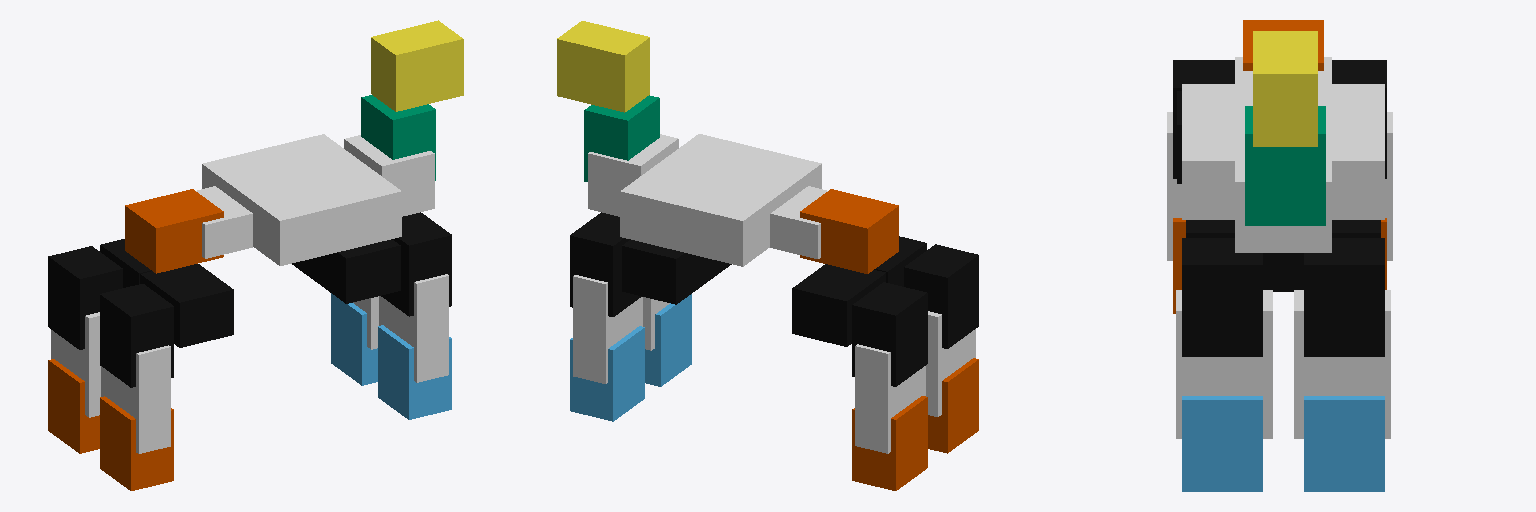
robot.urdf — dog_picker:
?<?xml version="1.0" ?>
<!-- =================================================================================== -->
<!-- |    This document was autogenerated by xacro from [local-path]/Documents/src/ros/dog_picker/src/dog_picker_description/urdf/dog_picker_description.xacro | -->
<!-- |    EDITING THIS FILE BY HAND IS NOT RECOMMENDED                                 | -->
<!-- =================================================================================== -->
<robot name="dog_picker" xmlns:xacro="http://www.ros.org/wiki/xacro">
  <!-- negative green is the joint axis in y... -->
  <!-- z is blue and x is red... -->
  <link name="base_link">
    <visual>
      <origin rpy="0 0 0" xyz="0 0 0.150"/>
      <geometry>
        <box size="0.09 0.1 0.032"/>
      </geometry>
      <material name="DimWhite">
        <color rgba="0.9 0.9 0.9 1.0"/>
      </material>
    </visual>
  </link>
  <joint name="robotis_part_6" type="fixed">
    <origin rpy="0 0 0" xyz="0.045 0 0.150"/>
    <parent link="base_link"/>
    <child link="neck_link"/>
  </joint>
  <link name="neck_link">
    <visual>
      <origin rpy="0 0 0" xyz="0.0195 0 0.0035"/>
      <geometry>
        <box size="0.039 0.048  0.039 "/>
      </geometry>
      <material name="DimWhite">
        <color rgba="0.9 0.9 0.9 1.0"/>
      </material>
    </visual>
  </link>
  <joint name="dynamixel_AX12_6_joint" type="revolute">
    <!--origin of whole dynamixel is at the center of the round part visible on the servo which is the joint -->
    <origin rpy="3.14159 0 0" xyz="0.027 0.021 0.0125"/>
    <!-- negative green is the joint axis... -->
    <axis xyz="0 -1 0"/>
    <limit effort="1000" lower="-2.61799166667" upper="2.61799166667" velocity="0.5"/>
    <parent link="neck_link"/>
    <child link="dynamixel_AX12_6_link"/>
  </joint>
  <link name="dynamixel_AX12_6_link">
    <!---rviz -->
    <visual>
      <!--link origin is a delta from the joint to the center of the servo box-->
      <origin rpy="0 0 0" xyz="0 0.02 -0.0135"/>
      <geometry>
        <!-- <mesh filename="package://pi_tb_description/meshes/ax12_box.${MESH_EXT}" scale="${M_SCALE} ${M_SCALE} ${M_SCALE}"/> -->
        <box size="0.032 0.04 0.05"/>
      </geometry>
      <material name="black"/>
    </visual>
    <!---gazebo section needs work http://wiki.ros.org/MeshLab http://en.wikipedia.org/wiki/List_of_moment_of_inertia_tensors   
      <inertial>
        <mass value="0.00001" />
        <inertia ixx="1.0" ixy="0.0" ixz="0.0"
          iyy="1.0" iyz="0.0"
          izz="1.0" />
      </inertial>
      <collision>
        <origin xyz="0.0 0.0 -0.0045" rpy="0 0 0" />
        <geometry>
          <box size="0.025 0.038 0.009"/>
        </geometry>
      </collision>
-->
  </link>
  <joint name="dynamixel_AX12_17_joint" type="revolute">
    <!--origin of whole dynamixel is at the center of the round part visible on the servo which is the joint -->
    <origin rpy="-1.570795 0 1.570795" xyz="0 0.02 -0.0415"/>
    <!-- negative green is the joint axis... -->
    <axis xyz="0 -1 0"/>
    <limit effort="1000" lower="-2.61799166667" upper="2.61799166667" velocity="0.5"/>
    <parent link="dynamixel_AX12_6_link"/>
    <child link="dynamixel_AX12_17_link"/>
  </joint>
  <link name="dynamixel_AX12_17_link">
    <!---rviz -->
    <visual>
      <!--link origin is a delta from the joint to the center of the servo box-->
      <origin rpy="0 0 0" xyz="0 0.02 -0.0135"/>
      <geometry>
        <!-- <mesh filename="package://pi_tb_description/meshes/ax12_box.${MESH_EXT}" scale="${M_SCALE} ${M_SCALE} ${M_SCALE}"/> -->
        <box size="0.032 0.04 0.05"/>
      </geometry>
      <material name="black"/>
    </visual>
    <!---gazebo section needs work http://wiki.ros.org/MeshLab http://en.wikipedia.org/wiki/List_of_moment_of_inertia_tensors   
      <inertial>
        <mass value="0.00001" />
        <inertia ixx="1.0" ixy="0.0" ixz="0.0"
          iyy="1.0" iyz="0.0"
          izz="1.0" />
      </inertial>
      <collision>
        <origin xyz="0.0 0.0 -0.0045" rpy="0 0 0" />
        <geometry>
          <box size="0.025 0.038 0.009"/>
        </geometry>
      </collision>
-->
  </link>
  <joint name="robotis_part_1" type="fixed">
    <origin rpy="0 0 0" xyz="-0.045 0 0.150"/>
    <parent link="base_link"/>
    <child link="butt_link"/>
  </joint>
  <link name="butt_link">
    <visual>
      <origin rpy="0 0 0" xyz="-0.0225 0 0"/>
      <geometry>
        <box size="0.035 0.048  0.024 "/>
      </geometry>
      <material name="DimWhite">
        <color rgba="0.9 0.9 0.9 1.0"/>
      </material>
    </visual>
  </link>
  <joint name="dynamixel_AX12_1_joint" type="revolute">
    <!--origin of whole dynamixel is at the center of the round part visible on the servo which is the joint -->
    <origin rpy="0 1.570795 0" xyz="-0.0355 -0.02 0"/>
    <!-- negative green is the joint axis... -->
    <axis xyz="0 -1 0"/>
    <limit effort="1000" lower="-2.61799166667" upper="2.61799166667" velocity="0.5"/>
    <parent link="butt_link"/>
    <child link="dynamixel_AX12_1_link"/>
  </joint>
  <link name="dynamixel_AX12_1_link">
    <!---rviz -->
    <visual>
      <!--link origin is a delta from the joint to the center of the servo box-->
      <origin rpy="0 0 0" xyz="0 0.02 -0.0135"/>
      <geometry>
        <!-- <mesh filename="package://pi_tb_description/meshes/ax12_box.${MESH_EXT}" scale="${M_SCALE} ${M_SCALE} ${M_SCALE}"/> -->
        <box size="0.032 0.04 0.05"/>
      </geometry>
      <material name="black"/>
    </visual>
    <!---gazebo section needs work http://wiki.ros.org/MeshLab http://en.wikipedia.org/wiki/List_of_moment_of_inertia_tensors   
      <inertial>
        <mass value="0.00001" />
        <inertia ixx="1.0" ixy="0.0" ixz="0.0"
          iyy="1.0" iyz="0.0"
          izz="1.0" />
      </inertial>
      <collision>
        <origin xyz="0.0 0.0 -0.0045" rpy="0 0 0" />
        <geometry>
          <box size="0.025 0.038 0.009"/>
        </geometry>
      </collision>
-->
  </link>
  <joint name="robotis_part_4" type="fixed">
    <origin rpy="1.570795 -1.570795 0.0" xyz="0.045 -0.0365 0.111"/>
    <parent link="base_link"/>
    <child link="dynamixel_AX12_4_link"/>
  </joint>
  <link name="dynamixel_AX12_4_link">
    <!---rviz -->
    <visual>
      <!--link origin is a delta from the joint to the center of the servo box-->
      <origin rpy="0 0 0" xyz="0 0.02 -0.0135"/>
      <geometry>
        <!-- <mesh filename="package://pi_tb_description/meshes/ax12_box.${MESH_EXT}" scale="${M_SCALE} ${M_SCALE} ${M_SCALE}"/> -->
        <box size="0.032 0.04 0.05"/>
      </geometry>
      <material name="Gray">
        <color rgba="0.1 0.1 0.1 1.0"/>
      </material>
    </visual>
  </link>
  <joint name="dynamixel_AX12_4_joint" type="revolute">
    <!--origin of whole dynamixel is at the center of the round part visible on the servo which is the joint -->
    <origin rpy="-1.570795 0 1.570795" xyz="-0.023 -0.021 0.0135"/>
    <axis xyz="0 -1 0"/>
    <limit effort="1000" lower="-2.61799166667" upper="2.61799166667" velocity="0.5"/>
    <parent link="dynamixel_AX12_4_link"/>
    <child link="dynamixel_AX12_16_link"/>
  </joint>
  <link name="dynamixel_AX12_16_link">
    <!---rviz -->
    <visual>
      <!--link origin is a delta from the joint to the center of the servo box-->
      <origin rpy="0 0 0" xyz="0 0.02 -0.0135"/>
      <geometry>
        <!-- <mesh filename="package://pi_tb_description/meshes/ax12_box.${MESH_EXT}" scale="${M_SCALE} ${M_SCALE} ${M_SCALE}"/> -->
        <box size="0.032 0.04 0.05"/>
      </geometry>
      <material name="Gray">
        <color rgba="0.1 0.1 0.1 1.0"/>
      </material>
    </visual>
  </link>
  <joint name="dynamixel_AX12_16_joint" type="revolute">
    <!--origin of whole dynamixel is at the center of the round part visible on the servo which is the joint -->
    <origin rpy="0 0 0" xyz="0 0.021 0.023"/>
    <axis xyz="0 -1 0"/>
    <limit effort="1000" lower="-2.61799166667" upper="2.61799166667" velocity="0.5"/>
    <parent link="dynamixel_AX12_16_link"/>
    <child link="calf_link_8"/>
  </joint>
  <link name="calf_link_8">
    <visual>
      <origin rpy="0 0 0" xyz="0 0 0"/>
      <geometry>
        <box size="0.024  0.048 0.07"/>
      </geometry>
      <material name="DimWhite">
        <color rgba="0.9 0.9 0.9 1.0"/>
      </material>
    </visual>
  </link>
  <joint name="dynamixel_AX12_8_joint" type="revolute">
    <!--origin of whole dynamixel is at the center of the round part visible on the servo which is the joint -->
    <origin rpy="0 3.14159 0" xyz="0 -0.021 0.023"/>
    <!-- negative green is the joint axis... -->
    <axis xyz="0 -1 0"/>
    <limit effort="1000" lower="-2.61799166667" upper="2.61799166667" velocity="0.5"/>
    <parent link="calf_link_8"/>
    <child link="dynamixel_AX12_8_link"/>
  </joint>
  <link name="dynamixel_AX12_8_link">
    <!---rviz -->
    <visual>
      <!--link origin is a delta from the joint to the center of the servo box-->
      <origin rpy="0 0 0" xyz="0 0.02 -0.0135"/>
      <geometry>
        <!-- <mesh filename="package://pi_tb_description/meshes/ax12_box.${MESH_EXT}" scale="${M_SCALE} ${M_SCALE} ${M_SCALE}"/> -->
        <box size="0.032 0.04 0.05"/>
      </geometry>
      <material name="black"/>
    </visual>
    <!---gazebo section needs work http://wiki.ros.org/MeshLab http://en.wikipedia.org/wiki/List_of_moment_of_inertia_tensors   
      <inertial>
        <mass value="0.00001" />
        <inertia ixx="1.0" ixy="0.0" ixz="0.0"
          iyy="1.0" iyz="0.0"
          izz="1.0" />
      </inertial>
      <collision>
        <origin xyz="0.0 0.0 -0.0045" rpy="0 0 0" />
        <geometry>
          <box size="0.025 0.038 0.009"/>
        </geometry>
      </collision>
-->
  </link>
  <joint name="robotis_part_11" type="fixed">
    <origin rpy="1.570795 0.0 3.14159" xyz="0.039 0.0575 -0.04"/>
    <parent link="dynamixel_AX12_1_link"/>
    <child link="dynamixel_AX12_11_link"/>
  </joint>
  <link name="dynamixel_AX12_11_link">
    <!---rviz -->
    <visual>
      <!--link origin is a delta from the joint to the center of the servo box-->
      <origin rpy="0 0 0" xyz="0 0.02 -0.0135"/>
      <geometry>
        <!-- <mesh filename="package://pi_tb_description/meshes/ax12_box.${MESH_EXT}" scale="${M_SCALE} ${M_SCALE} ${M_SCALE}"/> -->
        <box size="0.032 0.04 0.05"/>
      </geometry>
      <material name="Gray">
        <color rgba="0.1 0.1 0.1 1.0"/>
      </material>
    </visual>
  </link>
  <joint name="dynamixel_AX12_11_joint" type="revolute">
    <!--origin of whole dynamixel is at the center of the round part visible on the servo which is the joint -->
    <origin rpy="-1.570795 0 1.570795" xyz="-0.023 -0.021 0.0135"/>
    <axis xyz="0 -1 0"/>
    <limit effort="1000" lower="-2.61799166667" upper="2.61799166667" velocity="0.5"/>
    <parent link="dynamixel_AX12_11_link"/>
    <child link="dynamixel_AX12_13_link"/>
  </joint>
  <link name="dynamixel_AX12_13_link">
    <!---rviz -->
    <visual>
      <!--link origin is a delta from the joint to the center of the servo box-->
      <origin rpy="0 0 0" xyz="0 0.02 -0.0135"/>
      <geometry>
        <!-- <mesh filename="package://pi_tb_description/meshes/ax12_box.${MESH_EXT}" scale="${M_SCALE} ${M_SCALE} ${M_SCALE}"/> -->
        <box size="0.032 0.04 0.05"/>
      </geometry>
      <material name="Gray">
        <color rgba="0.1 0.1 0.1 1.0"/>
      </material>
    </visual>
  </link>
  <joint name="dynamixel_AX12_13_joint" type="revolute">
    <!--origin of whole dynamixel is at the center of the round part visible on the servo which is the joint -->
    <origin rpy="0 0 0" xyz="0 0.021 0.023"/>
    <axis xyz="0 -1 0"/>
    <limit effort="1000" lower="-2.61799166667" upper="2.61799166667" velocity="0.5"/>
    <parent link="dynamixel_AX12_13_link"/>
    <child link="calf_link_15"/>
  </joint>
  <link name="calf_link_15">
    <visual>
      <origin rpy="0 0 0" xyz="0 0 0"/>
      <geometry>
        <box size="0.024  0.048 0.07"/>
      </geometry>
      <material name="DimWhite">
        <color rgba="0.9 0.9 0.9 1.0"/>
      </material>
    </visual>
  </link>
  <joint name="dynamixel_AX12_15_joint" type="revolute">
    <!--origin of whole dynamixel is at the center of the round part visible on the servo which is the joint -->
    <origin rpy="0 3.14159 0" xyz="0 -0.021 0.023"/>
    <!-- negative green is the joint axis... -->
    <axis xyz="0 -1 0"/>
    <limit effort="1000" lower="-2.61799166667" upper="2.61799166667" velocity="0.5"/>
    <parent link="calf_link_15"/>
    <child link="dynamixel_AX12_15_link"/>
  </joint>
  <link name="dynamixel_AX12_15_link">
    <!---rviz -->
    <visual>
      <!--link origin is a delta from the joint to the center of the servo box-->
      <origin rpy="0 0 0" xyz="0 0.02 -0.0135"/>
      <geometry>
        <!-- <mesh filename="package://pi_tb_description/meshes/ax12_box.${MESH_EXT}" scale="${M_SCALE} ${M_SCALE} ${M_SCALE}"/> -->
        <box size="0.032 0.04 0.05"/>
      </geometry>
      <material name="black"/>
    </visual>
    <!---gazebo section needs work http://wiki.ros.org/MeshLab http://en.wikipedia.org/wiki/List_of_moment_of_inertia_tensors   
      <inertial>
        <mass value="0.00001" />
        <inertia ixx="1.0" ixy="0.0" ixz="0.0"
          iyy="1.0" iyz="0.0"
          izz="1.0" />
      </inertial>
      <collision>
        <origin xyz="0.0 0.0 -0.0045" rpy="0 0 0" />
        <geometry>
          <box size="0.025 0.038 0.009"/>
        </geometry>
      </collision>
-->
  </link>
  <joint name="robotis_part_5" type="fixed">
    <origin rpy="-1.570795 1.570795 0.0" xyz="0.045 0.0365 0.111"/>
    <parent link="base_link"/>
    <child link="dynamixel_AX12_5_link"/>
  </joint>
  <link name="dynamixel_AX12_5_link">
    <!---rviz -->
    <visual>
      <!--link origin is a delta from the joint to the center of the servo box-->
      <origin rpy="0 0 0" xyz="0 0.02 -0.0135"/>
      <geometry>
        <!-- <mesh filename="package://pi_tb_description/meshes/ax12_box.${MESH_EXT}" scale="${M_SCALE} ${M_SCALE} ${M_SCALE}"/> -->
        <box size="0.032 0.04 0.05"/>
      </geometry>
      <material name="Gray">
        <color rgba="0.1 0.1 0.1 1.0"/>
      </material>
    </visual>
  </link>
  <joint name="dynamixel_AX12_5_joint" type="revolute">
    <!--origin of whole dynamixel is at the center of the round part visible on the servo which is the joint -->
    <origin rpy="-1.570795 0 -1.570795" xyz="0.023 -0.021 0.0135"/>
    <axis xyz="1 0 0"/>
    <limit effort="1000" lower="-2.61799166667" upper="2.61799166667" velocity="0.5"/>
    <parent link="dynamixel_AX12_5_link"/>
    <child link="dynamixel_AX12_7_link"/>
  </joint>
  <link name="dynamixel_AX12_7_link">
    <!---rviz -->
    <visual>
      <!--link origin is a delta from the joint to the center of the servo box-->
      <origin rpy="0 0 0" xyz="0 0.02 -0.0135"/>
      <geometry>
        <!-- <mesh filename="package://pi_tb_description/meshes/ax12_box.${MESH_EXT}" scale="${M_SCALE} ${M_SCALE} ${M_SCALE}"/> -->
        <box size="0.032 0.04 0.05"/>
      </geometry>
      <material name="Gray">
        <color rgba="0.1 0.1 0.1 1.0"/>
      </material>
    </visual>
  </link>
  <joint name="dynamixel_AX12_7_joint" type="revolute">
    <!--origin of whole dynamixel is at the center of the round part visible on the servo which is the joint -->
    <origin rpy="0 0 0" xyz="0 0.021 0.023"/>
    <axis xyz="0 -1 0"/>
    <limit effort="1000" lower="-2.61799166667" upper="2.61799166667" velocity="0.5"/>
    <parent link="dynamixel_AX12_7_link"/>
    <child link="calf_link_9"/>
  </joint>
  <link name="calf_link_9">
    <visual>
      <origin rpy="0 0 0" xyz="0 0 0"/>
      <geometry>
        <box size="0.024  0.048 0.07"/>
      </geometry>
      <material name="DimWhite">
        <color rgba="0.9 0.9 0.9 1.0"/>
      </material>
    </visual>
  </link>
  <joint name="dynamixel_AX12_9_joint" type="revolute">
    <!--origin of whole dynamixel is at the center of the round part visible on the servo which is the joint -->
    <origin rpy="0 3.14159 0" xyz="0 -0.021 0.023"/>
    <!-- negative green is the joint axis... -->
    <axis xyz="0 -1 0"/>
    <limit effort="1000" lower="-2.61799166667" upper="2.61799166667" velocity="0.5"/>
    <parent link="calf_link_9"/>
    <child link="dynamixel_AX12_9_link"/>
  </joint>
  <link name="dynamixel_AX12_9_link">
    <!---rviz -->
    <visual>
      <!--link origin is a delta from the joint to the center of the servo box-->
      <origin rpy="0 0 0" xyz="0 0.02 -0.0135"/>
      <geometry>
        <!-- <mesh filename="package://pi_tb_description/meshes/ax12_box.${MESH_EXT}" scale="${M_SCALE} ${M_SCALE} ${M_SCALE}"/> -->
        <box size="0.032 0.04 0.05"/>
      </geometry>
      <material name="black"/>
    </visual>
    <!---gazebo section needs work http://wiki.ros.org/MeshLab http://en.wikipedia.org/wiki/List_of_moment_of_inertia_tensors   
      <inertial>
        <mass value="0.00001" />
        <inertia ixx="1.0" ixy="0.0" ixz="0.0"
          iyy="1.0" iyz="0.0"
          izz="1.0" />
      </inertial>
      <collision>
        <origin xyz="0.0 0.0 -0.0045" rpy="0 0 0" />
        <geometry>
          <box size="0.025 0.038 0.009"/>
        </geometry>
      </collision>
-->
  </link>
  <joint name="robotis_part_10" type="fixed">
    <origin rpy="-1.570795 3.14159 3.14159" xyz="0.039 -0.021 -0.04"/>
    <parent link="dynamixel_AX12_1_link"/>
    <child link="dynamixel_AX12_10_link"/>
  </joint>
  <link name="dynamixel_AX12_10_link">
    <!---rviz -->
    <visual>
      <!--link origin is a delta from the joint to the center of the servo box-->
      <origin rpy="0 0 0" xyz="0 0.02 -0.0135"/>
      <geometry>
        <!-- <mesh filename="package://pi_tb_description/meshes/ax12_box.${MESH_EXT}" scale="${M_SCALE} ${M_SCALE} ${M_SCALE}"/> -->
        <box size="0.032 0.04 0.05"/>
      </geometry>
      <material name="Gray">
        <color rgba="0.1 0.1 0.1 1.0"/>
      </material>
    </visual>
  </link>
  <joint name="dynamixel_AX12_10_joint" type="revolute">
    <!--origin of whole dynamixel is at the center of the round part visible on the servo which is the joint -->
    <origin rpy="-1.570795 0 -1.570795" xyz="0.023 -0.021 0.0135"/>
    <axis xyz="0 -1 0"/>
    <limit effort="1000" lower="-2.61799166667" upper="2.61799166667" velocity="0.5"/>
    <parent link="dynamixel_AX12_10_link"/>
    <child link="dynamixel_AX12_12_link"/>
  </joint>
  <link name="dynamixel_AX12_12_link">
    <!---rviz -->
    <visual>
      <!--link origin is a delta from the joint to the center of the servo box-->
      <origin rpy="0 0 0" xyz="0 0.02 -0.0135"/>
      <geometry>
        <!-- <mesh filename="package://pi_tb_description/meshes/ax12_box.${MESH_EXT}" scale="${M_SCALE} ${M_SCALE} ${M_SCALE}"/> -->
        <box size="0.032 0.04 0.05"/>
      </geometry>
      <material name="Gray">
        <color rgba="0.1 0.1 0.1 1.0"/>
      </material>
    </visual>
  </link>
  <joint name="dynamixel_AX12_12_joint" type="revolute">
    <!--origin of whole dynamixel is at the center of the round part visible on the servo which is the joint -->
    <origin rpy="0 0 0" xyz="0 0.021 0.023"/>
    <axis xyz="0 -1 0"/>
    <limit effort="1000" lower="-2.61799166667" upper="2.61799166667" velocity="0.5"/>
    <parent link="dynamixel_AX12_12_link"/>
    <child link="calf_link_14"/>
  </joint>
  <link name="calf_link_14">
    <visual>
      <origin rpy="0 0 0" xyz="0 0 0"/>
      <geometry>
        <box size="0.024  0.048 0.07"/>
      </geometry>
      <material name="DimWhite">
        <color rgba="0.9 0.9 0.9 1.0"/>
      </material>
    </visual>
  </link>
  <joint name="dynamixel_AX12_14_joint" type="revolute">
    <!--origin of whole dynamixel is at the center of the round part visible on the servo which is the joint -->
    <origin rpy="0 3.14159 0" xyz="0 -0.021 0.023"/>
    <!-- negative green is the joint axis... -->
    <axis xyz="0 -1 0"/>
    <limit effort="1000" lower="-2.61799166667" upper="2.61799166667" velocity="0.5"/>
    <parent link="calf_link_14"/>
    <child link="dynamixel_AX12_14_link"/>
  </joint>
  <link name="dynamixel_AX12_14_link">
    <!---rviz -->
    <visual>
      <!--link origin is a delta from the joint to the center of the servo box-->
      <origin rpy="0 0 0" xyz="0 0.02 -0.0135"/>
      <geometry>
        <!-- <mesh filename="package://pi_tb_description/meshes/ax12_box.${MESH_EXT}" scale="${M_SCALE} ${M_SCALE} ${M_SCALE}"/> -->
        <box size="0.032 0.04 0.05"/>
      </geometry>
      <material name="black"/>
    </visual>
    <!---gazebo section needs work http://wiki.ros.org/MeshLab http://en.wikipedia.org/wiki/List_of_moment_of_inertia_tensors   
      <inertial>
        <mass value="0.00001" />
        <inertia ixx="1.0" ixy="0.0" ixz="0.0"
          iyy="1.0" iyz="0.0"
          izz="1.0" />
      </inertial>
      <collision>
        <origin xyz="0.0 0.0 -0.0045" rpy="0 0 0" />
        <geometry>
          <box size="0.025 0.038 0.009"/>
        </geometry>
      </collision>
-->
  </link>
</robot>

--- Render facts (derived) ---
The picture shows the robot from 3 angles, left to right: view 1: azimuth 30°, elevation 25°; view 2: azimuth 150°, elevation 25°; view 3: azimuth 270°, elevation 25°; orthographic projection.
Robot: dog_picker — 22 links, 21 joints (15 revolute, 6 fixed); root link base_link; default pose: every joint at zero.
Visible links, largest first — view 1: base_link, dynamixel_AX12_17_link, dynamixel_AX12_1_link, dynamixel_AX12_12_link, dynamixel_AX12_13_link, dynamixel_AX12_10_link, calf_link_14, calf_link_8, dynamixel_AX12_4_link, dynamixel_AX12_8_link, dynamixel_AX12_14_link, dynamixel_AX12_16_link (+8 smaller); view 2: base_link, dynamixel_AX12_17_link, dynamixel_AX12_1_link, dynamixel_AX12_13_link, dynamixel_AX12_12_link, dynamixel_AX12_11_link, calf_link_15, calf_link_9, dynamixel_AX12_15_link, dynamixel_AX12_5_link, dynamixel_AX12_9_link, dynamixel_AX12_7_link (+8 smaller); view 3: base_link, dynamixel_AX12_16_link, dynamixel_AX12_7_link, dynamixel_AX12_8_link, dynamixel_AX12_9_link, dynamixel_AX12_17_link, dynamixel_AX12_6_link, calf_link_8, calf_link_9, neck_link, dynamixel_AX12_12_link, dynamixel_AX12_4_link (+7 smaller).
Link boxes in pixels (box(x1,y1,x2,y2)): base_link: box(202, 134, 401, 265); dynamixel_AX12_17_link: box(371, 20, 463, 111); dynamixel_AX12_1_link: box(125, 189, 223, 273); dynamixel_AX12_12_link: box(100, 284, 173, 387); dynamixel_AX12_13_link: box(48, 246, 122, 349); dynamixel_AX12_10_link: box(140, 264, 233, 347); calf_link_14: box(101, 345, 170, 453); calf_link_8: box(379, 274, 448, 382); dynamixel_AX12_4_link: box(310, 239, 400, 303); dynamixel_AX12_8_link: box(378, 325, 451, 419); dynamixel_AX12_14_link: box(100, 396, 173, 490); dynamixel_AX12_16_link: box(381, 212, 451, 316); base_link: box(620, 134, 821, 266); dynamixel_AX12_17_link: box(557, 21, 649, 112); dynamixel_AX12_1_link: box(800, 189, 898, 273); dynamixel_AX12_13_link: box(852, 282, 927, 386); dynamixel_AX12_12_link: box(904, 244, 978, 348); dynamixel_AX12_11_link: box(792, 264, 885, 346); calf_link_15: box(855, 344, 925, 453); calf_link_9: box(573, 275, 642, 383); dynamixel_AX12_15_link: box(852, 396, 927, 490); dynamixel_AX12_5_link: box(622, 240, 715, 304); dynamixel_AX12_9_link: box(570, 326, 644, 421); dynamixel_AX12_7_link: box(570, 212, 641, 316); base_link: box(1182, 84, 1384, 219); dynamixel_AX12_16_link: box(1182, 238, 1262, 356); dynamixel_AX12_7_link: box(1304, 238, 1384, 356); dynamixel_AX12_8_link: box(1182, 396, 1262, 491); dynamixel_AX12_9_link: box(1304, 396, 1384, 491); dynamixel_AX12_17_link: box(1253, 31, 1317, 146); dynamixel_AX12_6_link: box(1245, 106, 1325, 225); calf_link_8: box(1176, 290, 1272, 438); calf_link_9: box(1294, 290, 1390, 438); neck_link: box(1235, 148, 1331, 252); dynamixel_AX12_12_link: box(1173, 60, 1234, 178); dynamixel_AX12_4_link: box(1186, 220, 1287, 291).
Bounding box of the posed robot: 0.268 × 0.1115 × 0.2405 m (x, y, z).
Geometry: primitives only (box / cylinder / sphere), no mesh files.
